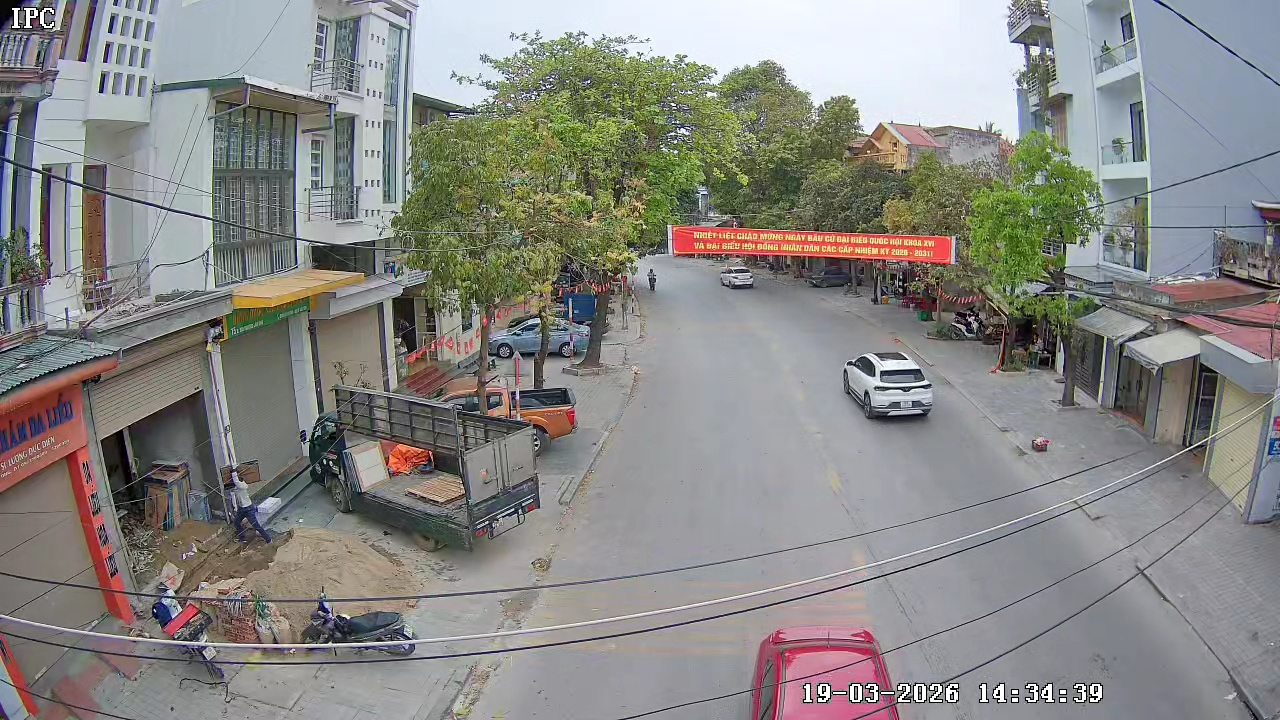car: (843, 350, 935, 421), (511, 384, 578, 451), (719, 266, 756, 290)
